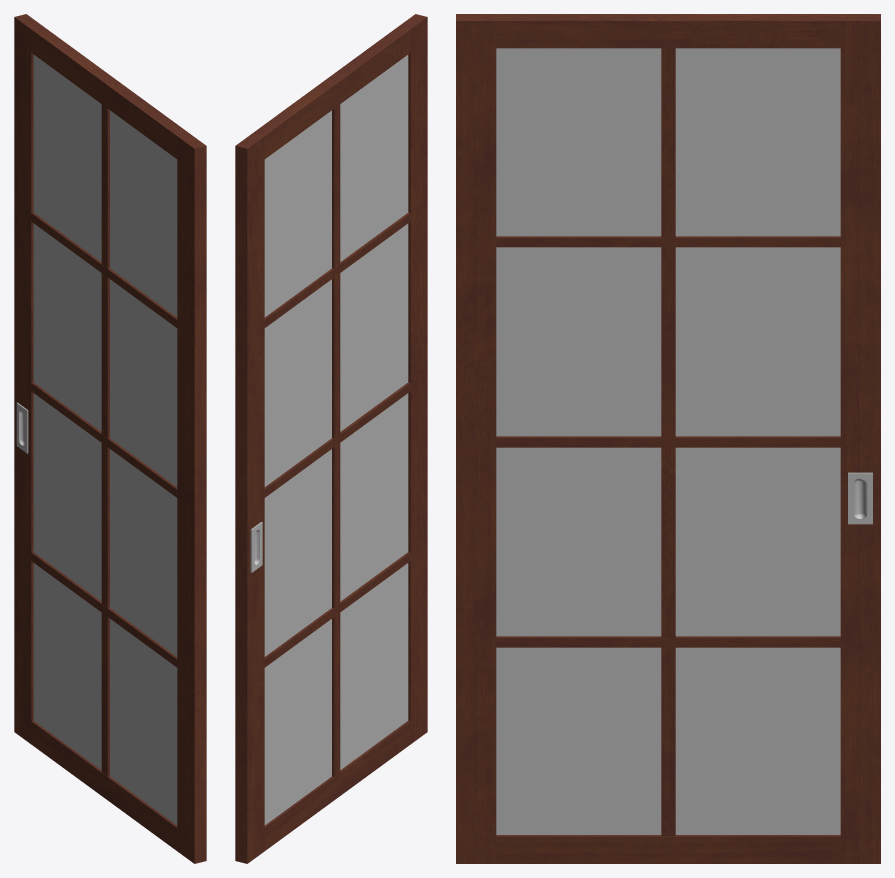
Rendered from SM_InnerDoor01Q.fbx.
3 views of the same model, side by side, from view 1: azimuth 30°, elevation 25°; view 2: azimuth 150°, elevation 25°; view 3: azimuth 270°, elevation 25° (orthographic). The views are drawn at different scales.
Parts seen in each view (by area): view 1: SM_InnerDoor01Q; view 2: SM_InnerDoor01Q; view 3: SM_InnerDoor01Q.
Part boxes in pixels (x1=…): SM_InnerDoor01Q: x1=14, y1=14, x2=206, y2=863; SM_InnerDoor01Q: x1=235, y1=14, x2=427, y2=863; SM_InnerDoor01Q: x1=456, y1=14, x2=880, y2=863.
Bounding box in the file's own units: 2.78 × 59.66 × 131.
